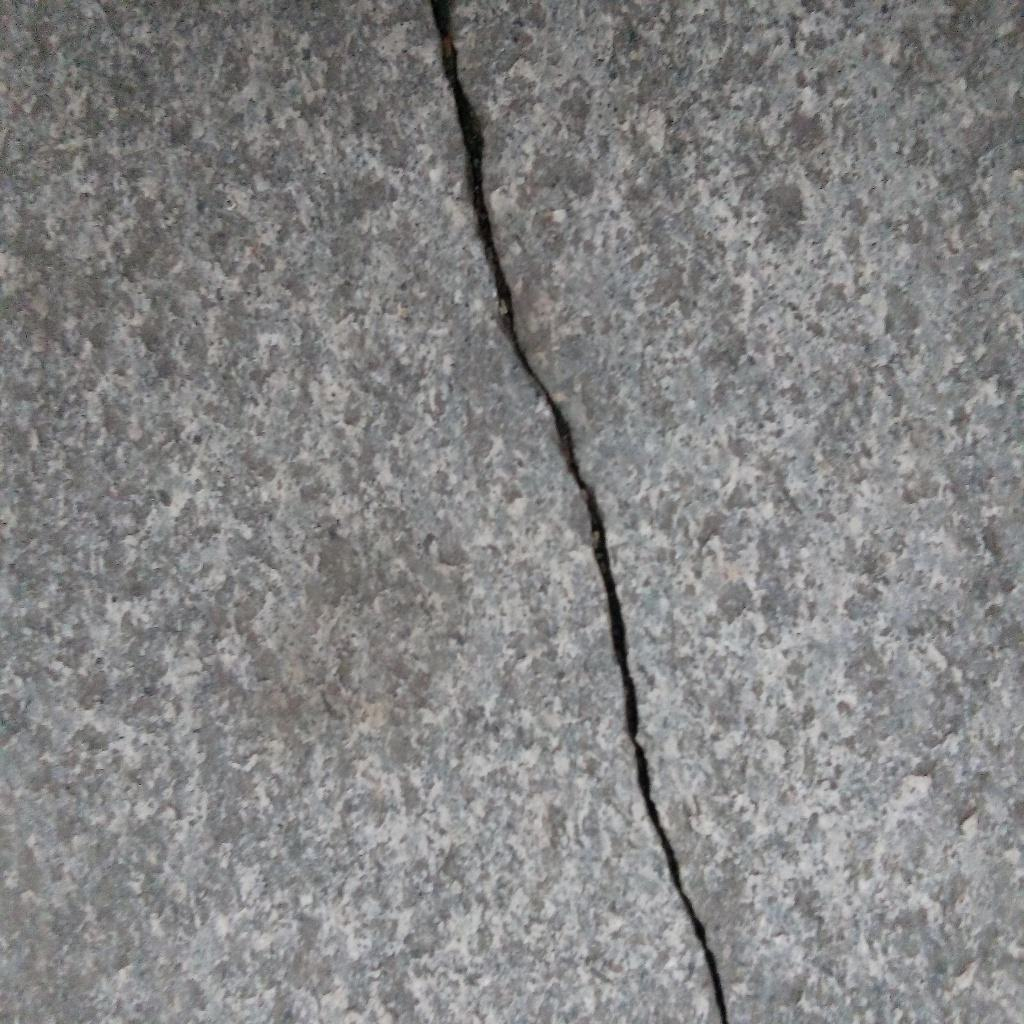Crack: (427, 1, 731, 1024)
